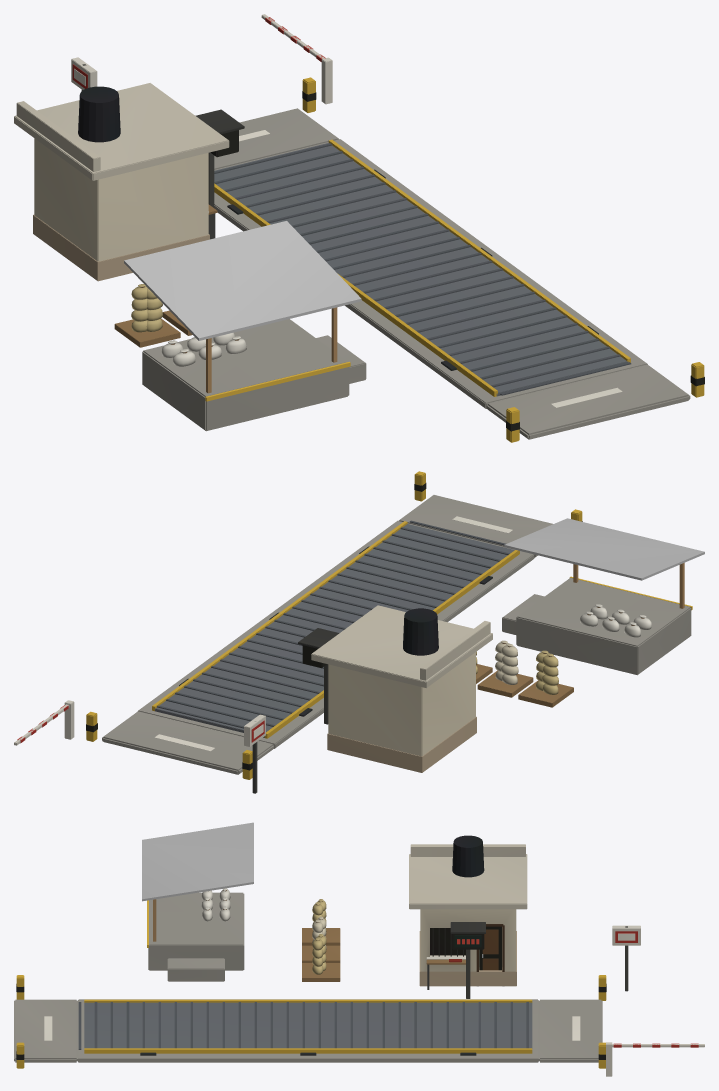
The model's file is dharam_kanta.glb.
3 views of the same model, one above another, from view 1: azimuth 30°, elevation 25°; view 2: azimuth 150°, elevation 25°; view 3: azimuth 270°, elevation 25° (orthographic). The views are drawn at different scales.
Parts seen in each view (by area): view 1: hb_main, hb_props, hb_tin, hb_brick; view 2: hb_main, hb_props, hb_tin, hb_brick; view 3: hb_props, hb_main, hb_tin, hb_brick.
Part boxes in pixels (x1,y1,x2,y2): hb_main: [14, 83, 690, 439]; hb_props: [71, 14, 704, 442]; hb_tin: [124, 221, 361, 340]; hb_brick: [114, 204, 337, 393]; hb_main: [102, 495, 691, 774]; hb_props: [14, 471, 692, 793]; hb_tin: [504, 518, 704, 580]; hb_brick: [476, 563, 684, 707]; hb_props: [16, 835, 704, 1076]; hb_main: [14, 844, 602, 1062]; hb_tin: [142, 822, 253, 901]; hb_brick: [153, 899, 465, 981].
Bounding box in the file's own units: 12 × 4 × 21.6.
